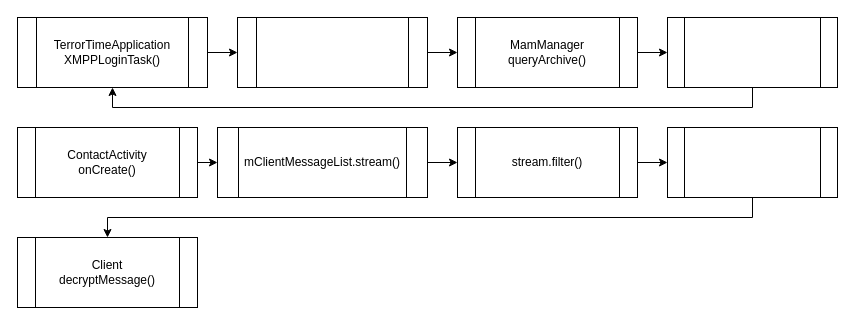
This 855x325 diagram has some shape labels left out. Each missing label, with the centre of its shape:
"MamHelper getMessageArchive()" goes at [332,52].
"Message init()" goes at [752,52].
"Messaging decryptMessage()" goes at [752,162].
